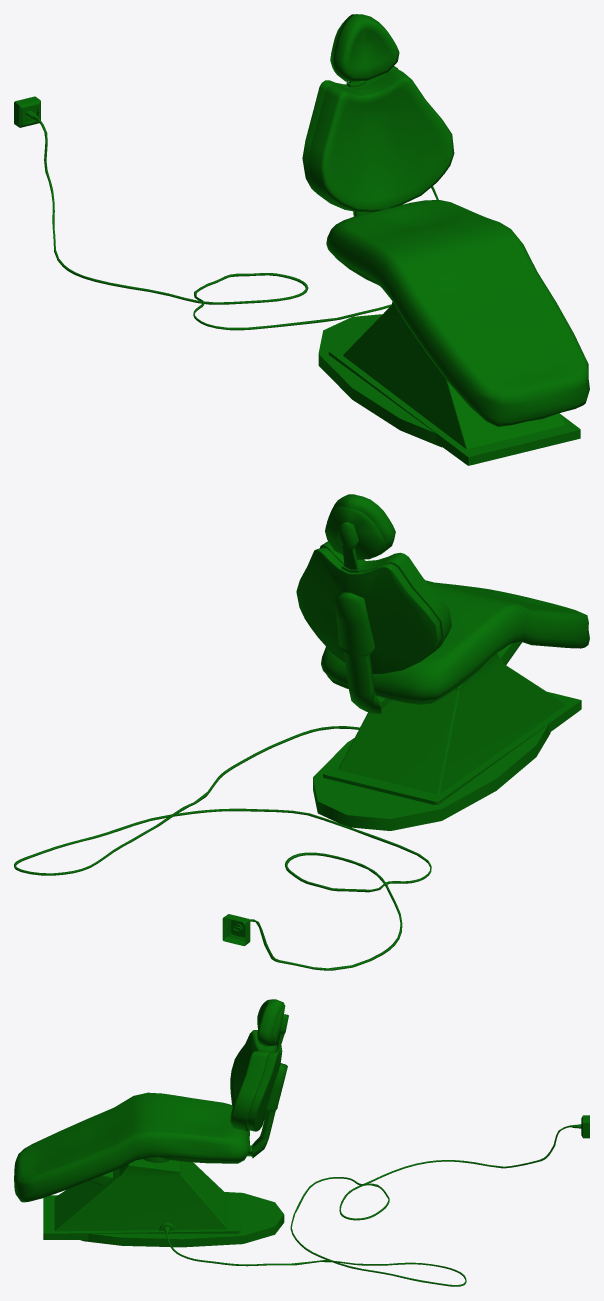
The model's file is Dental_Chair_v1.fbx.
3 renders of one model, top to bottom at view 1: azimuth 30°, elevation 25°; view 2: azimuth 150°, elevation 25°; view 3: azimuth 270°, elevation 25°, orthographic. The views are drawn at different scales.
Visible parts, largest first — view 1: Dental_Chair_v1; view 2: Dental_Chair_v1; view 3: Dental_Chair_v1.
Part boxes in pixels (left/top/right/bottom): Dental_Chair_v1: left=14, top=14, right=589, bottom=465; Dental_Chair_v1: left=14, top=494, right=589, bottom=970; Dental_Chair_v1: left=14, top=999, right=589, bottom=1286.
Bounding box in the file's own units: 164 × 137 × 322.
